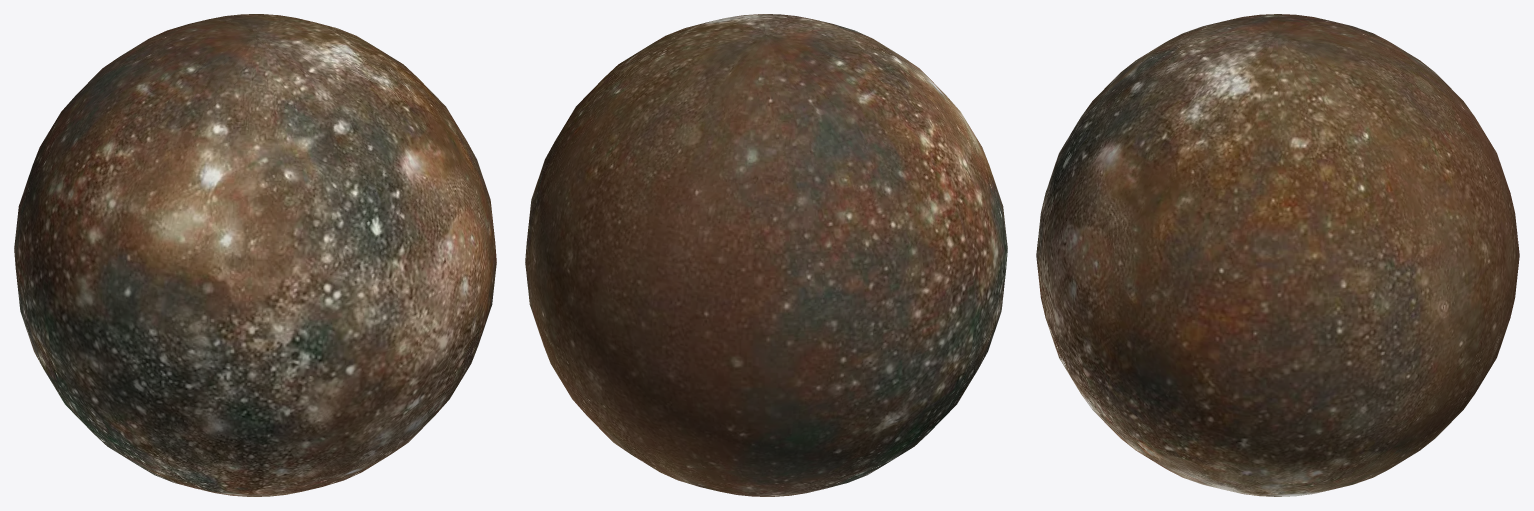
Rendered from callisto.glb.
3 renders of one model, left to right at view 1: azimuth 30°, elevation 25°; view 2: azimuth 150°, elevation 25°; view 3: azimuth 270°, elevation 25°, orthographic.
Visible parts, largest first — view 1: Object_3; view 2: Object_3; view 3: Object_3.
Boxes of the visible parts, left/top/right/bottom form: Object_3: left=14, top=14, right=496, bottom=496; Object_3: left=525, top=14, right=1007, bottom=496; Object_3: left=1036, top=14, right=1519, bottom=496.
Size of the model in its own units: 423 by 423 by 423.
Materials: 2 (1 with a texture image).
